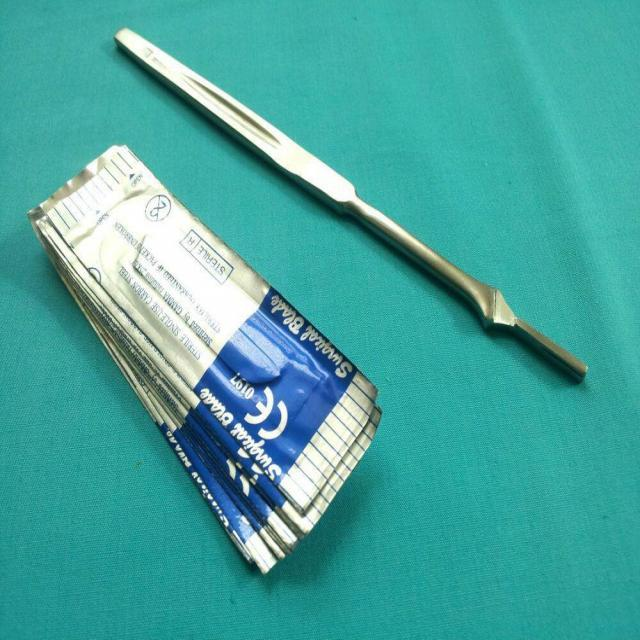Scalpel: (113, 22, 588, 388)
